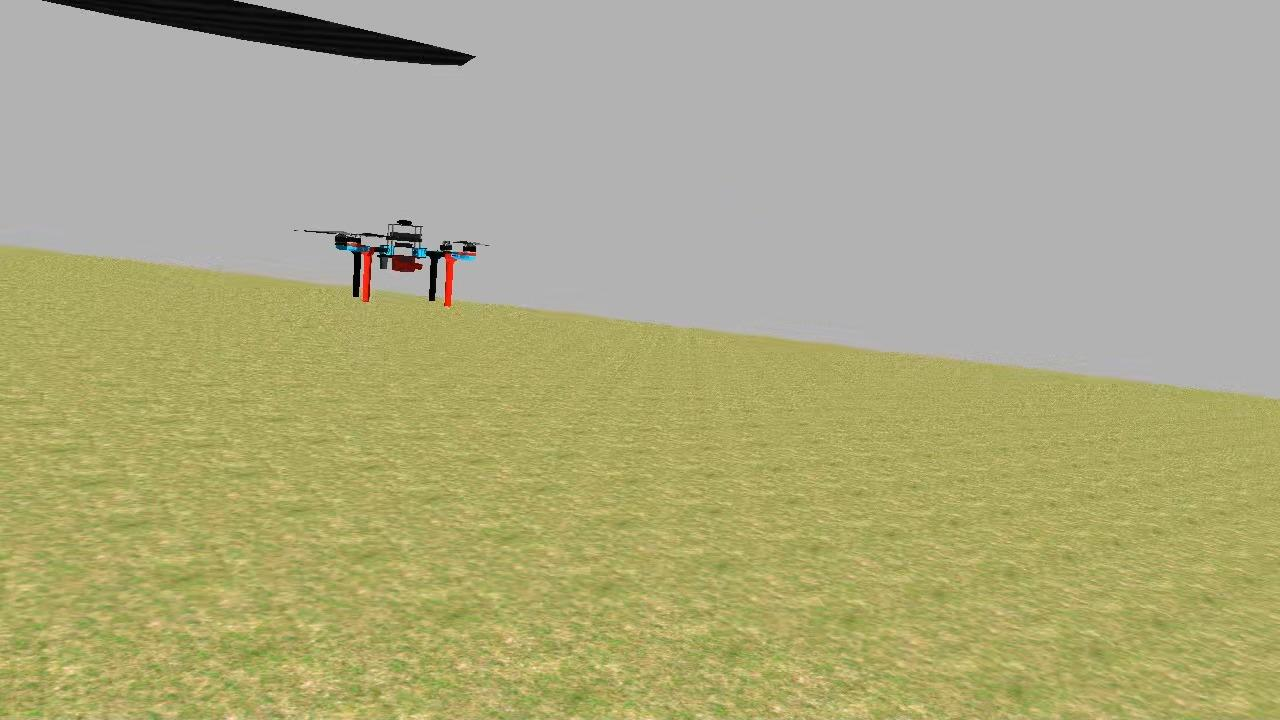UAV: (326, 209, 486, 314)
